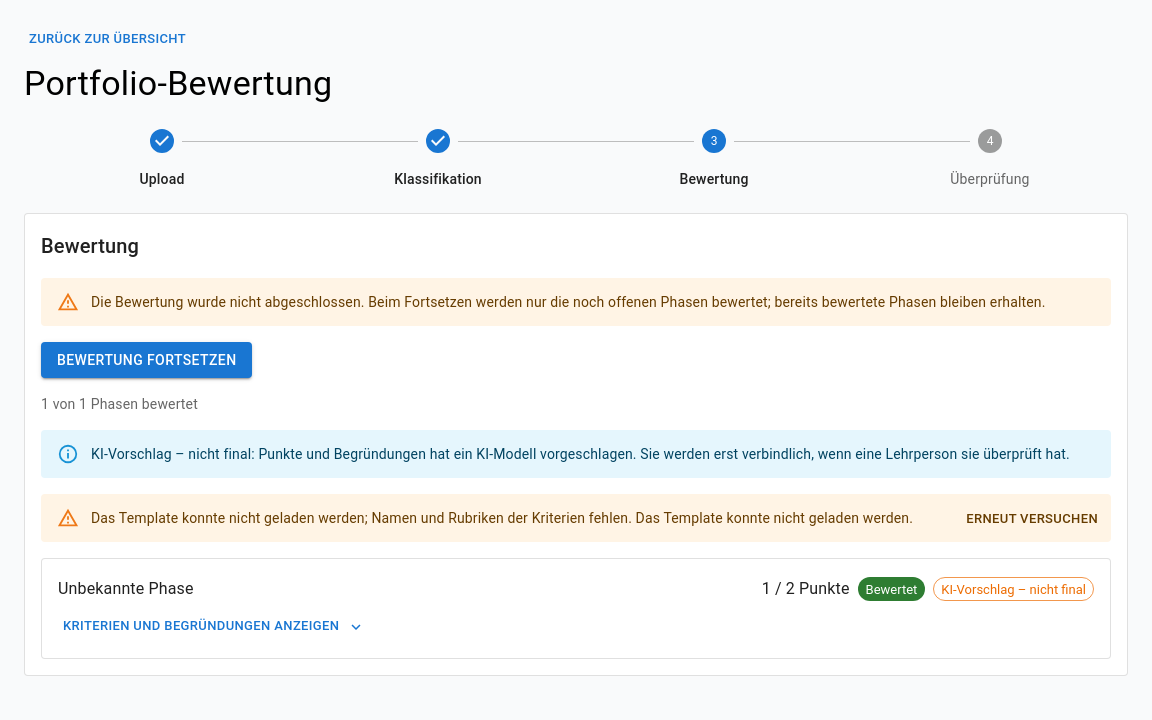
Test: PortfolioGradingPanel › zeigt die Ergebnisse auch, wenn das Template nicht lädt
Expected: the text "Das Template konnte nicht geladen werden" is shown, top-left (91, 510), bottom-right (913, 526)
Click the button "Kriterien und Begründungen anzeigen" at [213, 627], box top-left (58, 611), bottom-right (368, 642)
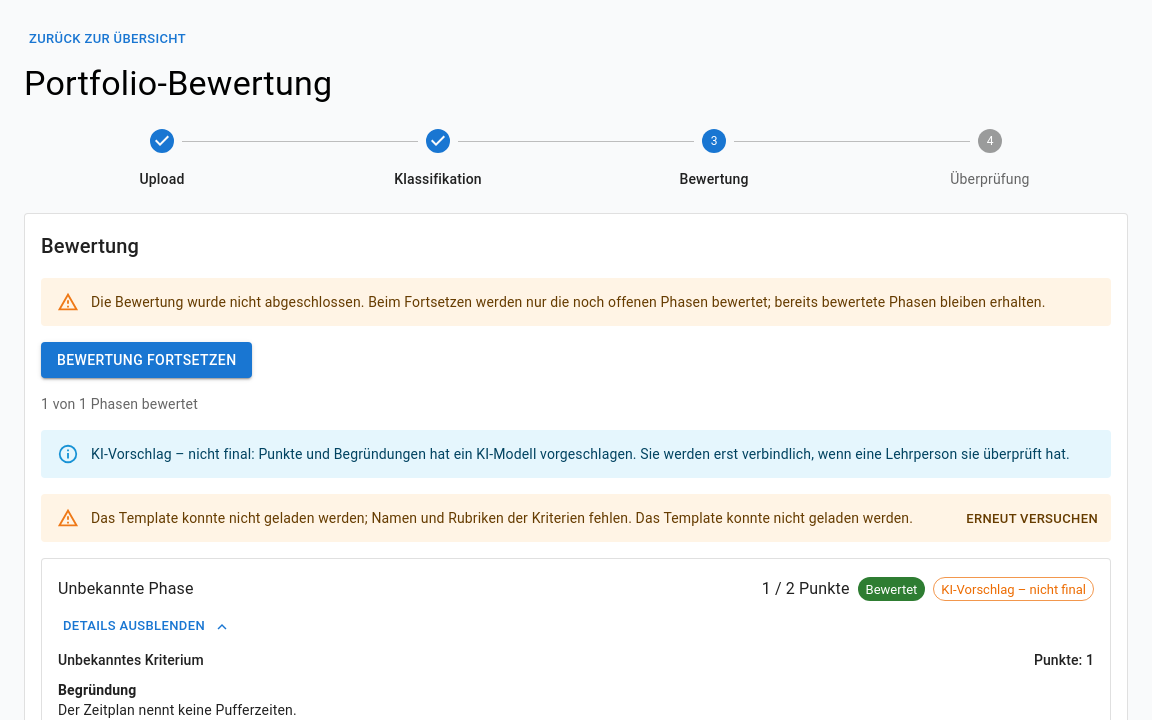
Now the heading "Unbekanntes Kriterium" is shown, box top-left (58, 650), bottom-right (204, 672)
Now the heading "Punkte: 1" is shown, box top-left (1034, 650), bottom-right (1094, 672)
Now the text "Der Zeitplan nennt keine Pufferzeiten." is shown, box top-left (58, 702), bottom-right (297, 718)
